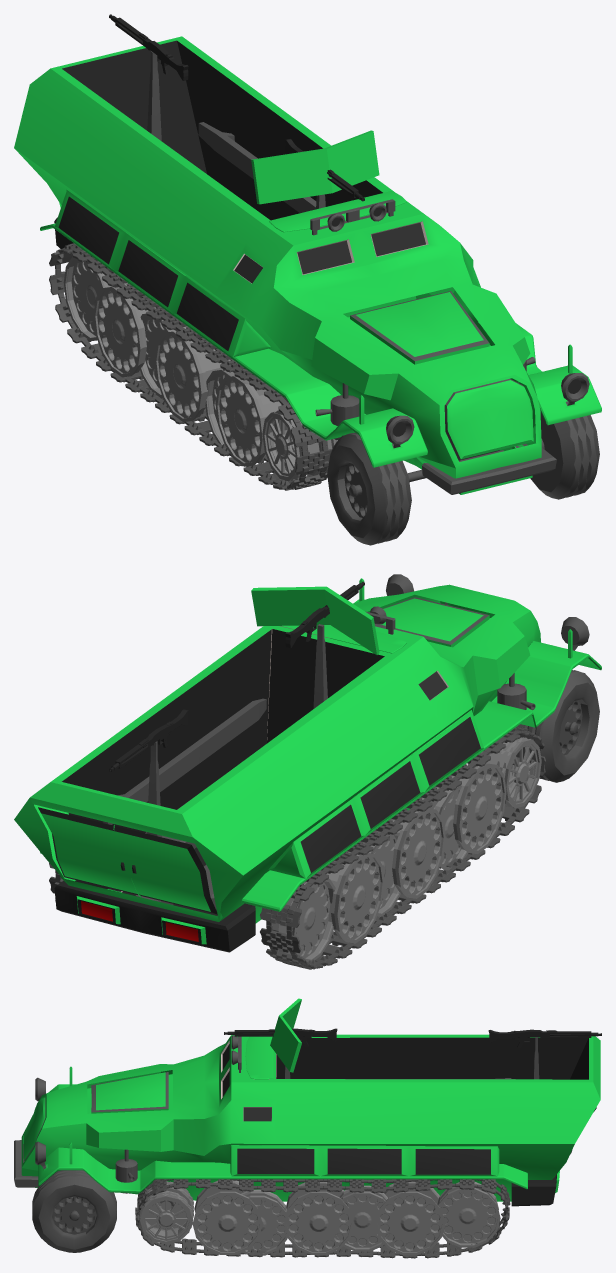
The model's file is Armored_Car-1.fbx.
3 views of the same model, one above another, from view 1: azimuth 30°, elevation 25°; view 2: azimuth 150°, elevation 25°; view 3: azimuth 270°, elevation 25° (orthographic). The views are drawn at different scales.
Parts seen in each view (by area): view 1: body_sdkf; view 2: body_sdkf; view 3: body_sdkf.
Boxes of the visible parts, x1,y1,x2,y2 form: body_sdkf: (14,14,601,545); body_sdkf: (14,574,601,969); body_sdkf: (14,998,601,1258).
Bounding box in the file's own units: 422 × 425 × 1136.
